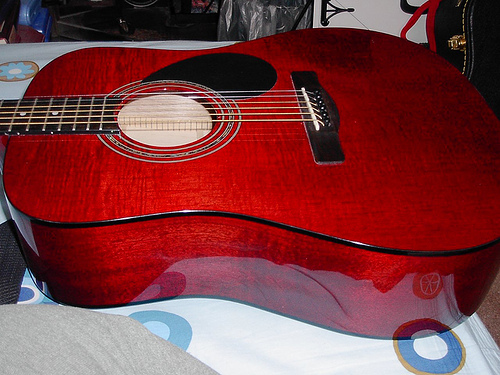guitar: (1, 28, 498, 342)
